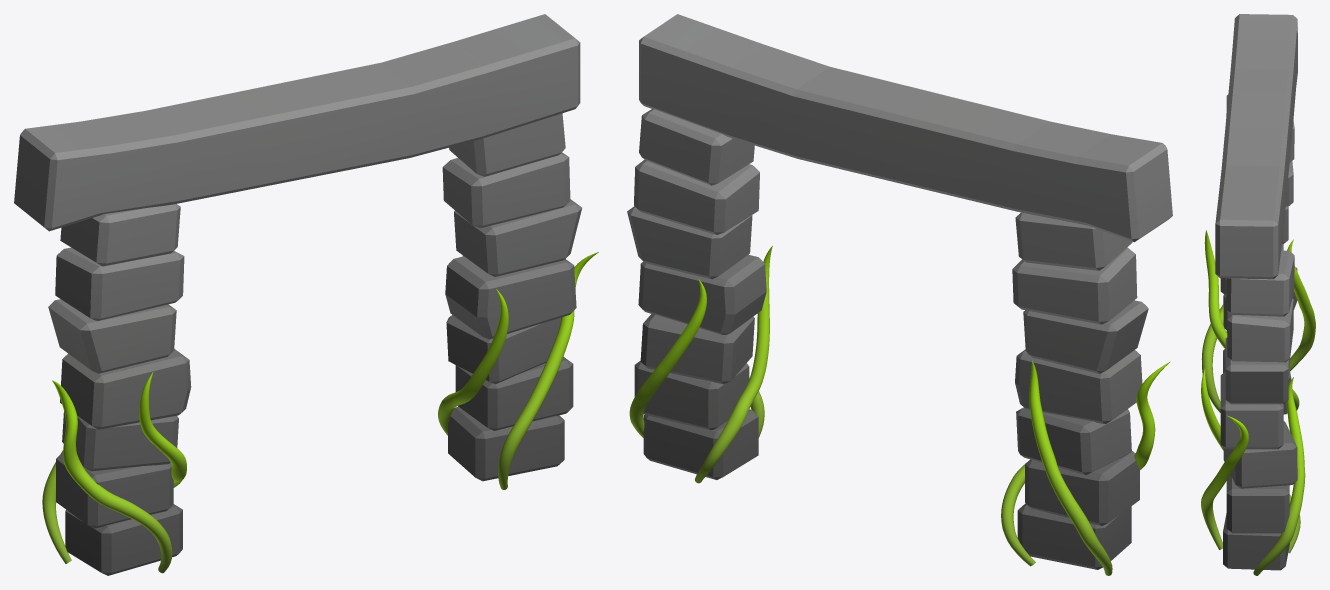
The model's file is PrimitiveGate.fbx.
The picture shows the model from 3 angles, left to right: view 1: azimuth 30°, elevation 25°; view 2: azimuth 150°, elevation 25°; view 3: azimuth 270°, elevation 25°; orthographic projection. The views are drawn at different scales.
Parts seen in each view (by area): view 1: Cube; view 2: Cube; view 3: Cube.
Boxes of the visible parts, x1=… form: Cube: x1=14, y1=14, x2=598, y2=575; Cube: x1=627, y1=14, x2=1172, y2=575; Cube: x1=1201, y1=14, x2=1315, y2=575.
Size of the model in its own units: 16.59 by 12.61 by 3.65.
Materials: 1 (1 with a texture image).
